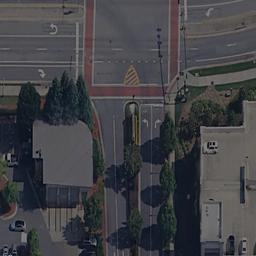Chevron: (121, 66, 139, 87)
Double Soild White Line: (1, 59, 83, 69)
Left Turn Arrow: (204, 6, 216, 19), (140, 115, 150, 127)
Right Turn Arrow: (35, 67, 45, 79), (154, 117, 164, 128)
Solid White Line: (112, 113, 118, 256), (148, 134, 154, 256)
Stop Line: (73, 22, 81, 86), (138, 101, 164, 108), (183, 1, 189, 21)
U Turn Arrow: (45, 20, 61, 35)
White Dashed Line: (1, 41, 249, 53), (103, 57, 168, 66)
